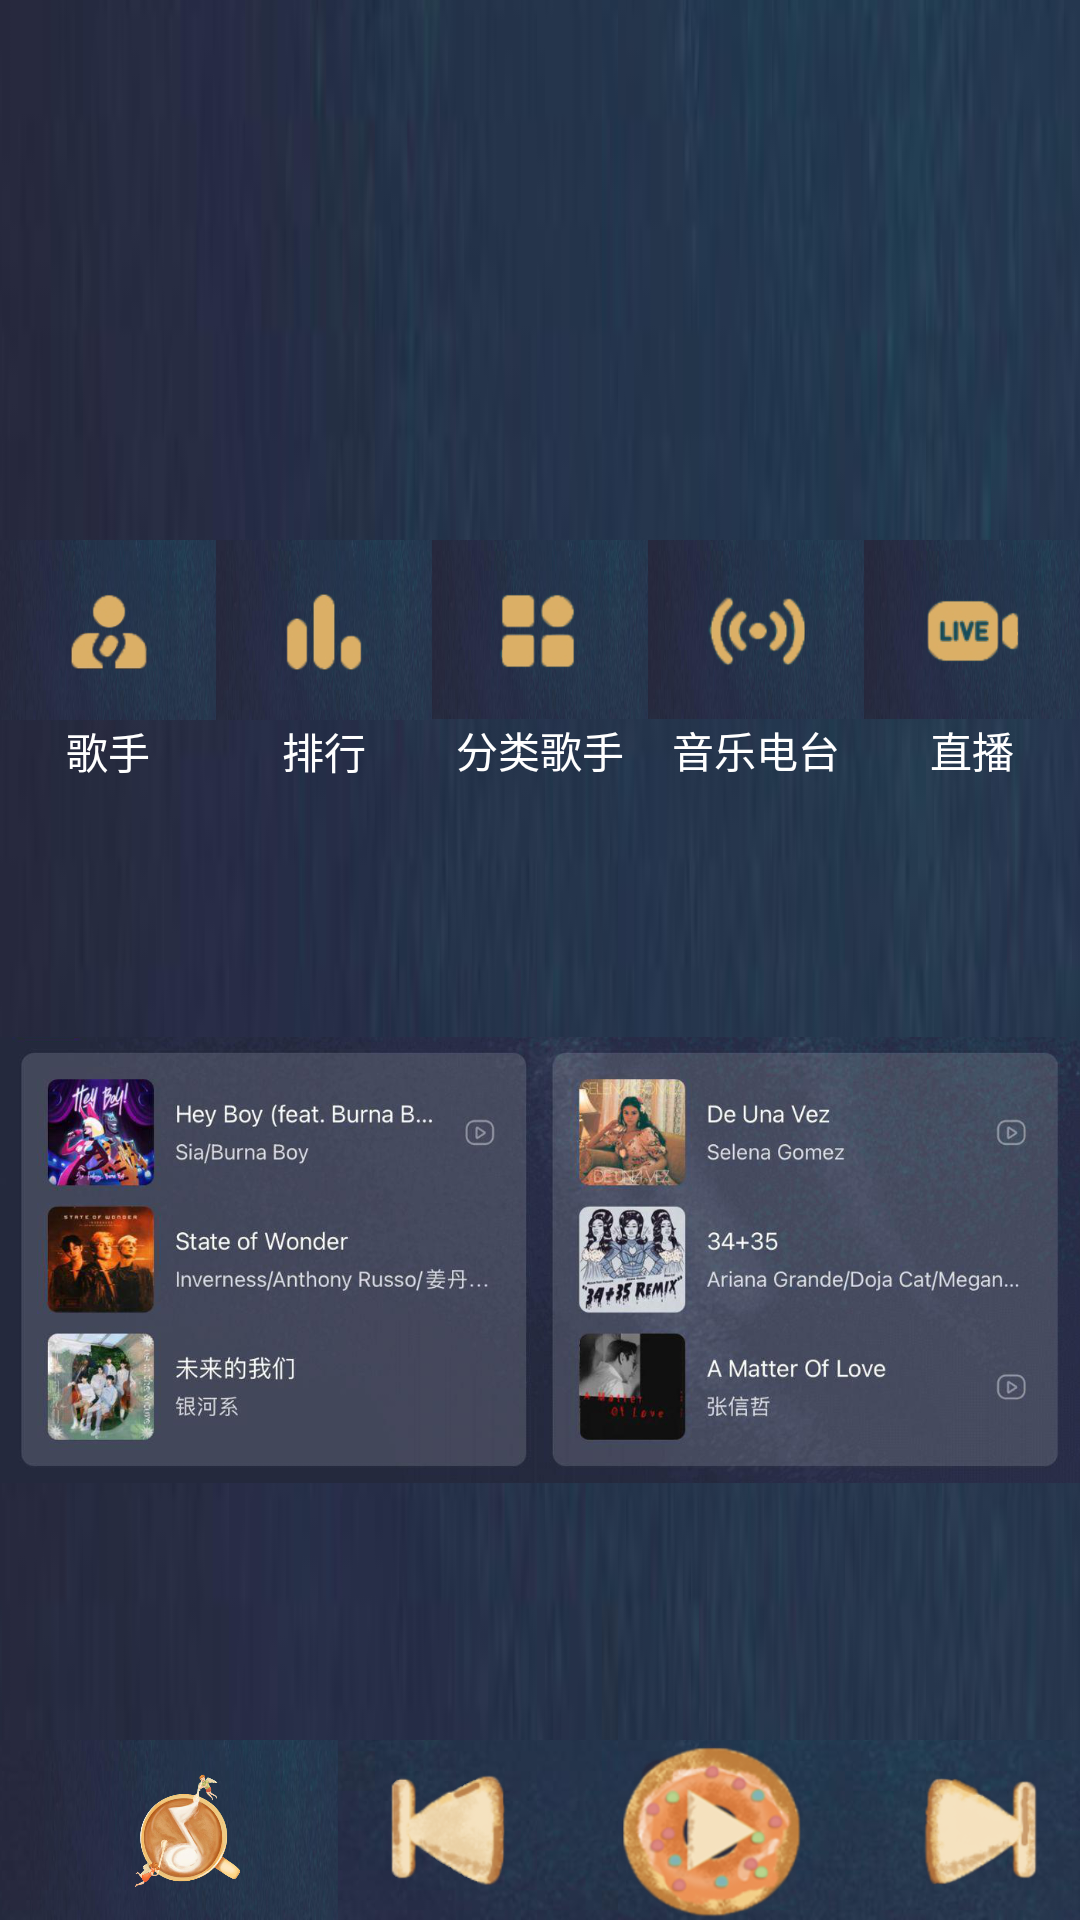

Locate icon controls on the screen. Image size 1080*1920, boxes as bbox(x1, y1, x2, y2).
before: bbox(391, 1776, 505, 1885)
next: bbox(925, 1779, 1037, 1884)
